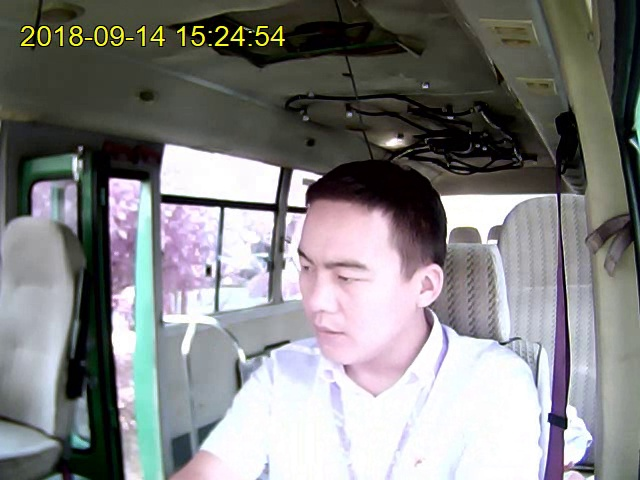closed_mouth: (309, 319, 350, 347)
